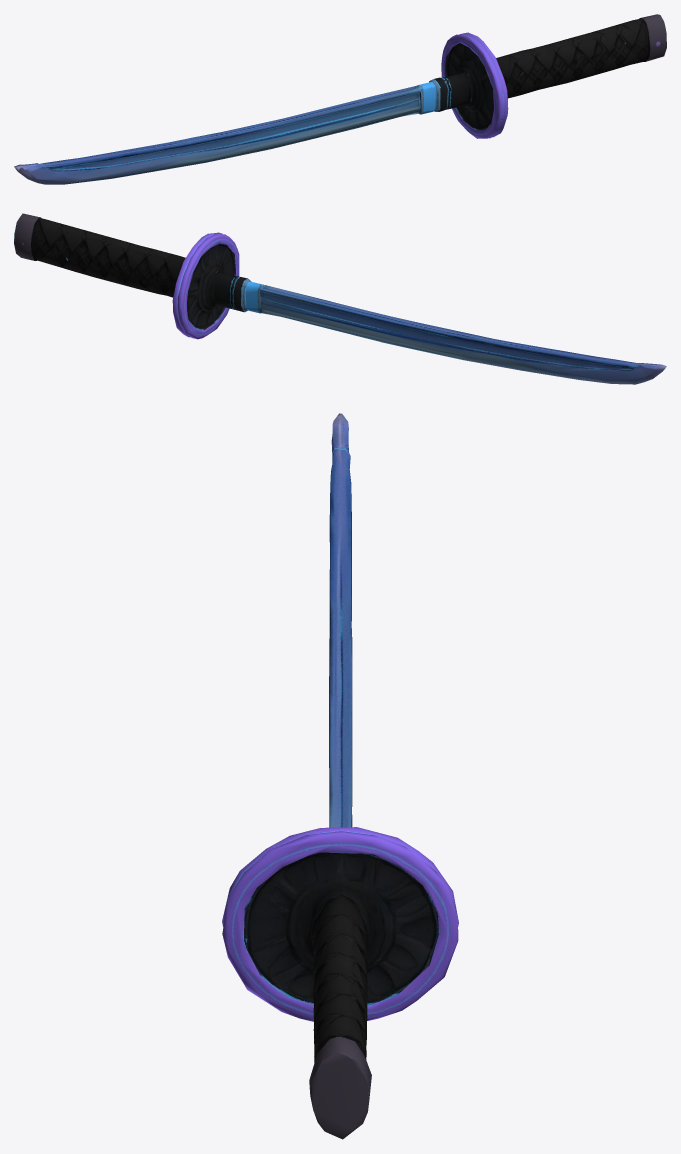
The model's file is Katana.glb.
3 views of the same model, one above another, from view 1: azimuth 30°, elevation 25°; view 2: azimuth 150°, elevation 25°; view 3: azimuth 270°, elevation 25° (orthographic). The views are drawn at different scales.
Visible parts, largest first — view 1: Katana_reduced; view 2: Katana_reduced; view 3: Katana_reduced.
Boxes of the visible parts, x1,y1,x2,y2 form: Katana_reduced: [14, 14, 666, 184]; Katana_reduced: [14, 213, 666, 384]; Katana_reduced: [222, 413, 458, 1139].
Size of the model in its own units: 0.8366 by 0.119 by 0.133.
1 material, 1 textured.
